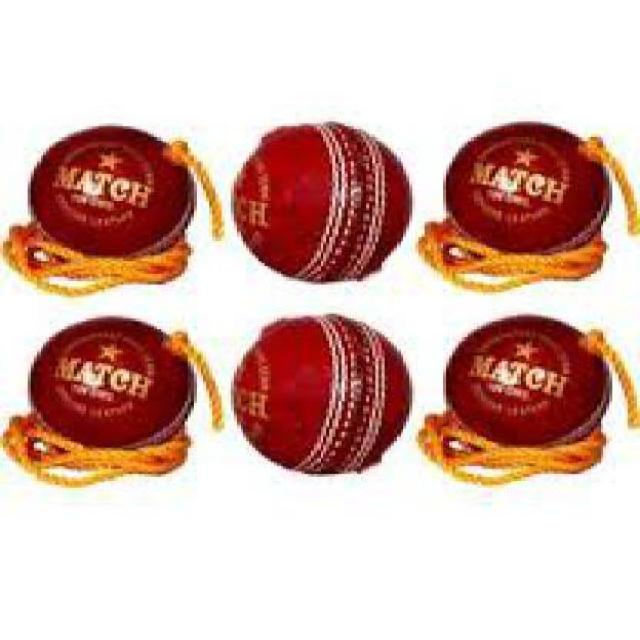ball: (225, 85, 421, 288)
